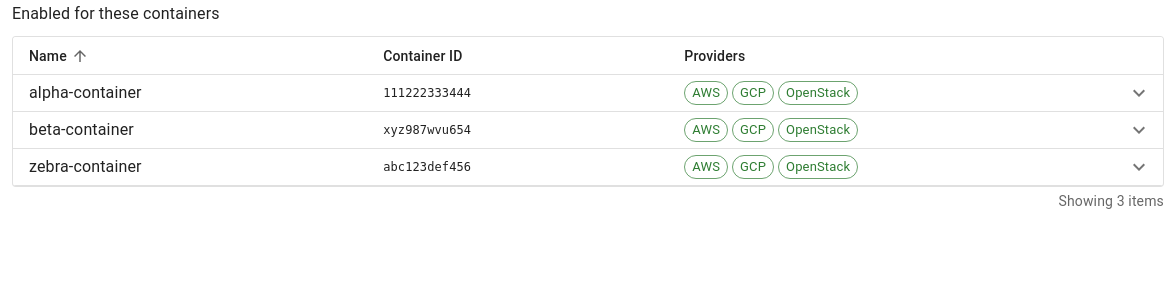
Test: ContainersTable › expand button toggles label details independently of row click
Click the button named "expand labels" in the row of "alpha-container": (1139, 93) [1127,81,1151,105]
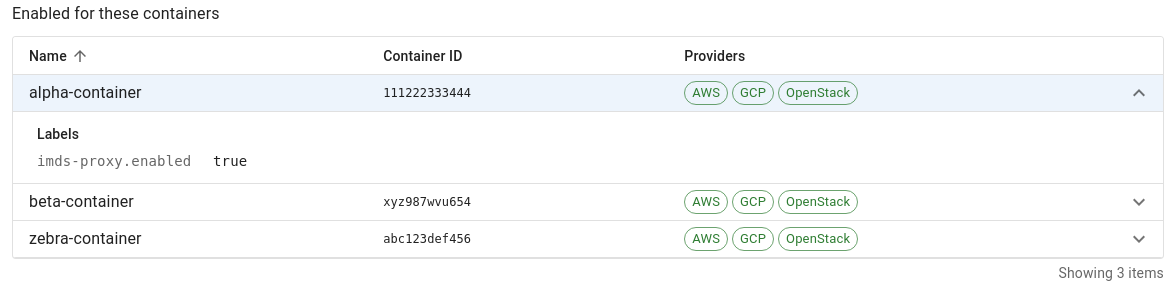
Expected: the heading "Labels" is shown, [37,126,79,142]
